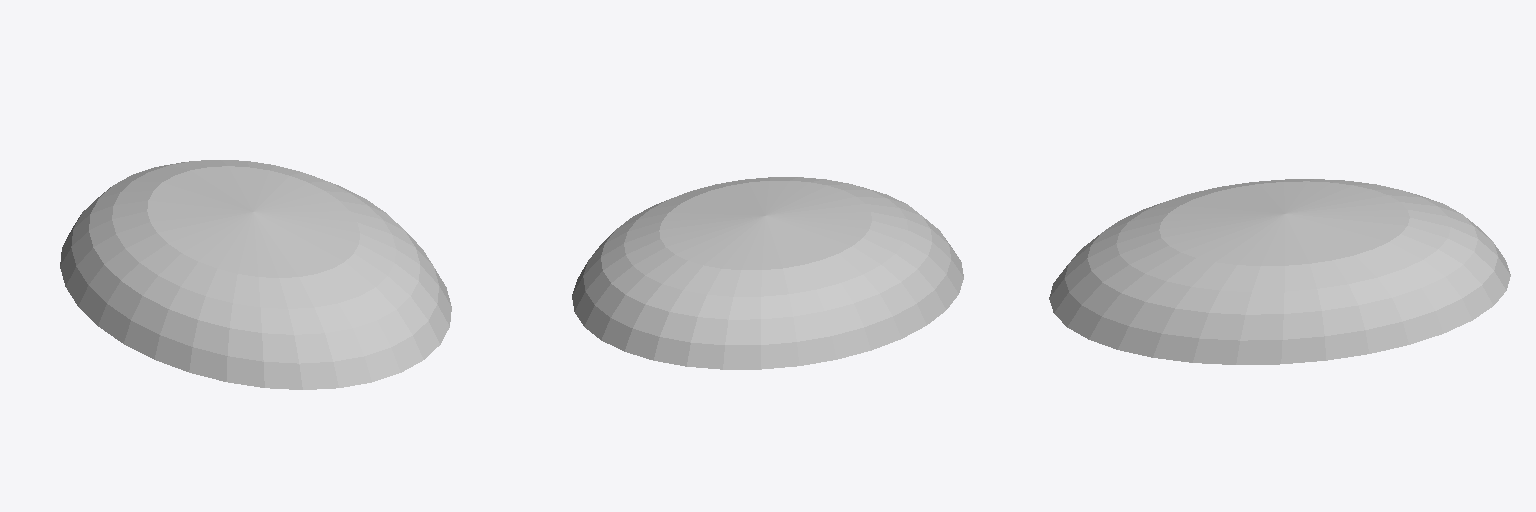
Rendered from clouds.obj.
3 renders of one model, left to right at view 1: azimuth 30°, elevation 25°; view 2: azimuth 150°, elevation 25°; view 3: azimuth 270°, elevation 25°, orthographic.
Visible parts, largest first — view 1: frame_15; view 2: frame_15; view 3: frame_15.
Boxes of the visible parts, x1,y1,x2,y2 form: frame_15: [60, 160, 451, 389]; frame_15: [572, 177, 963, 369]; frame_15: [1049, 179, 1510, 364].
Size of the model in its own units: 2352 by 598 by 2964.